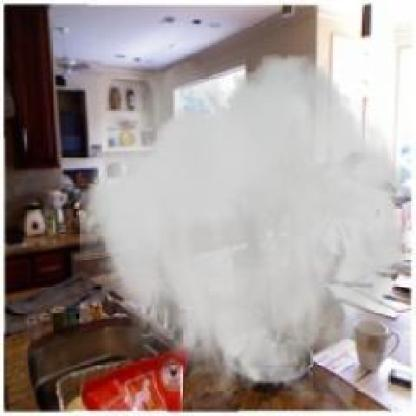Smoke: (80, 54, 414, 411)
